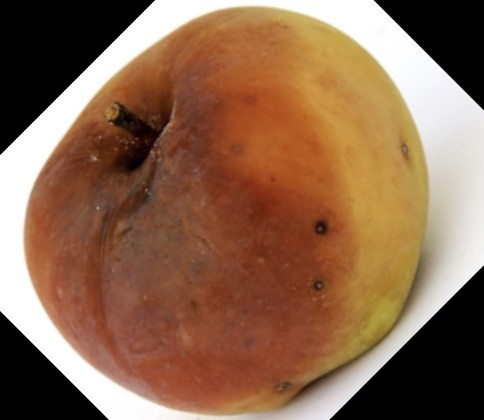rotten_apple: (24, 6, 430, 418)
